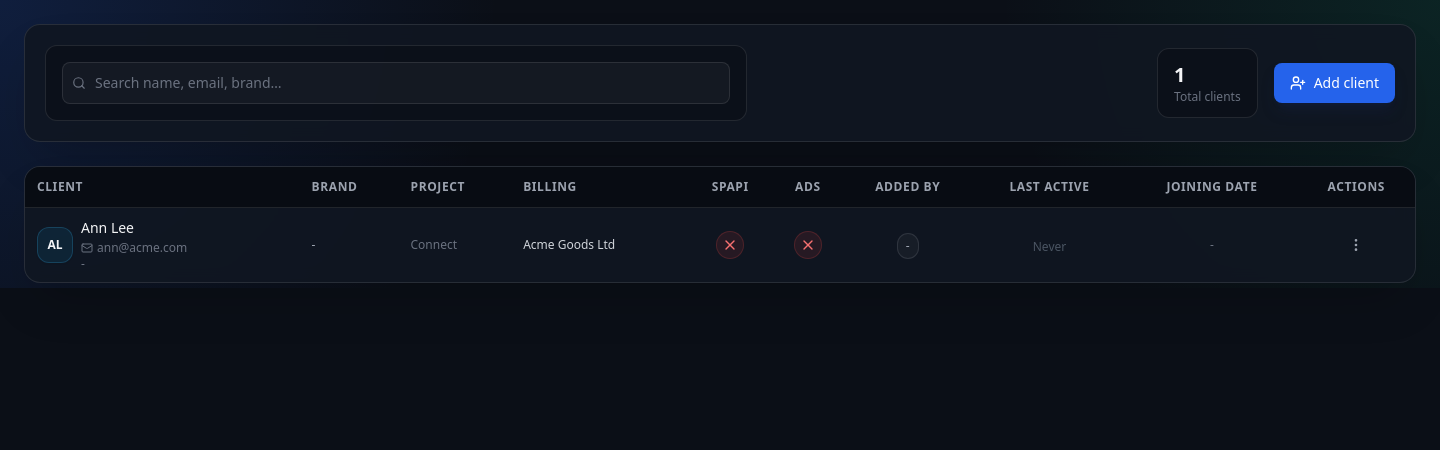
Test: ESF Clients menu › says Change billing when already linked
Click the button named "Actions": (1356, 245) [1342,231,1370,259]
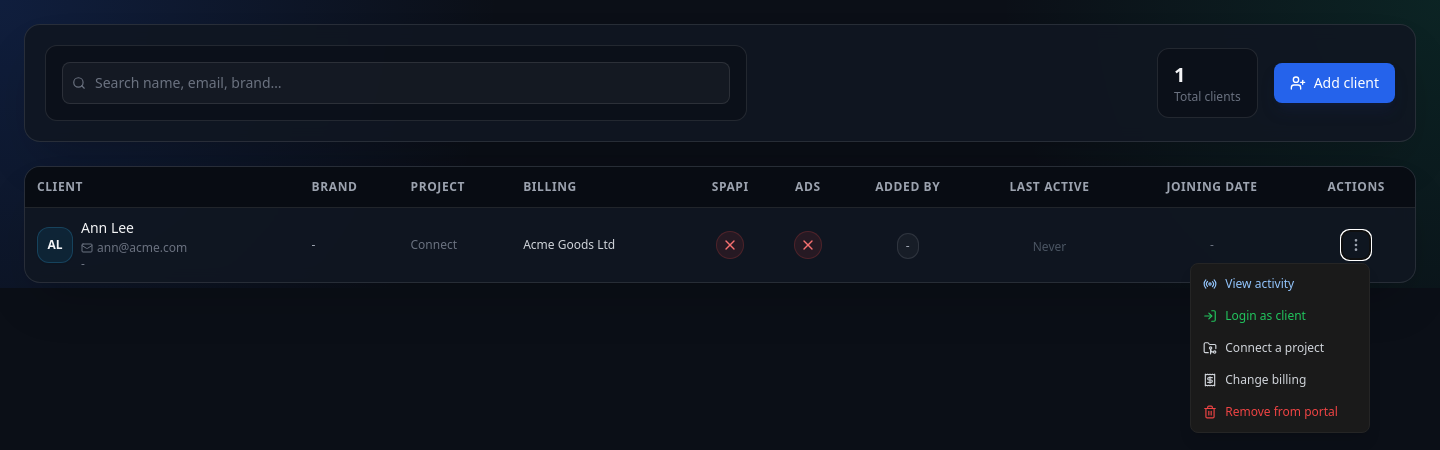
Check: the text "Acme Goods Ltd" is shown, box [523,236,615,253]
Check: the button "Change billing" is shown, box [1191,364,1369,396]
